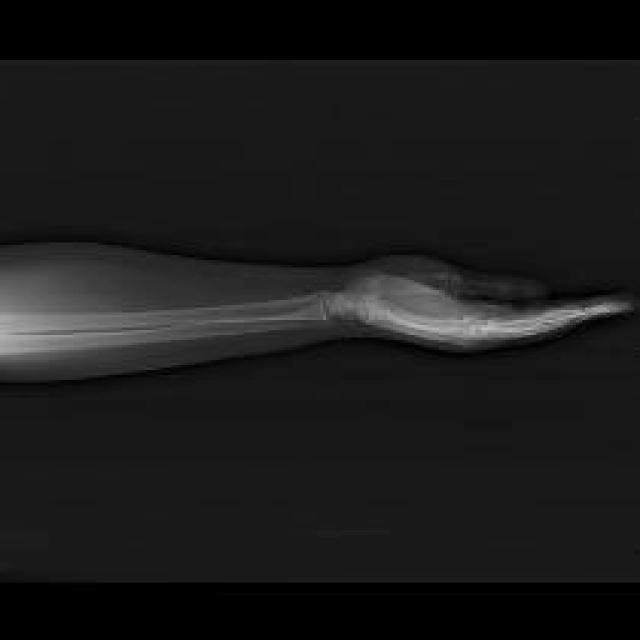normal: (5, 268, 634, 364)
